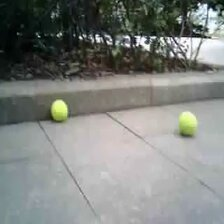tennis: (179, 111, 196, 135), (50, 99, 68, 119)
